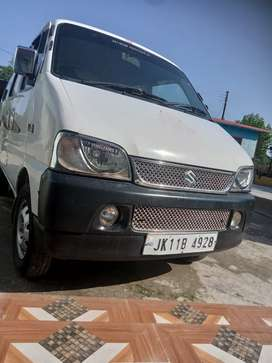JK11B4928: (142, 233, 218, 253)
